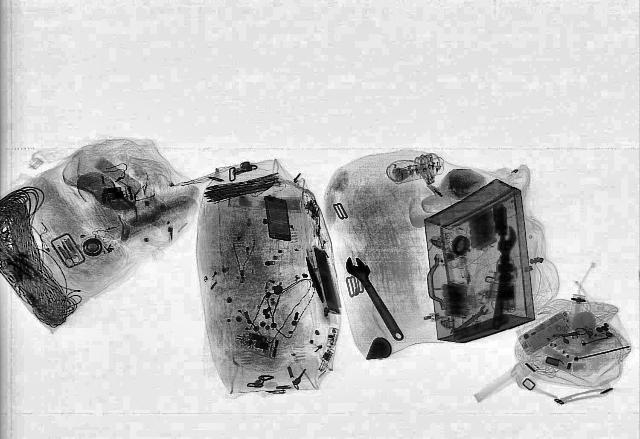Wrench: (339, 254, 411, 342)
